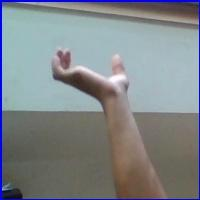B: (49, 45, 134, 98)
